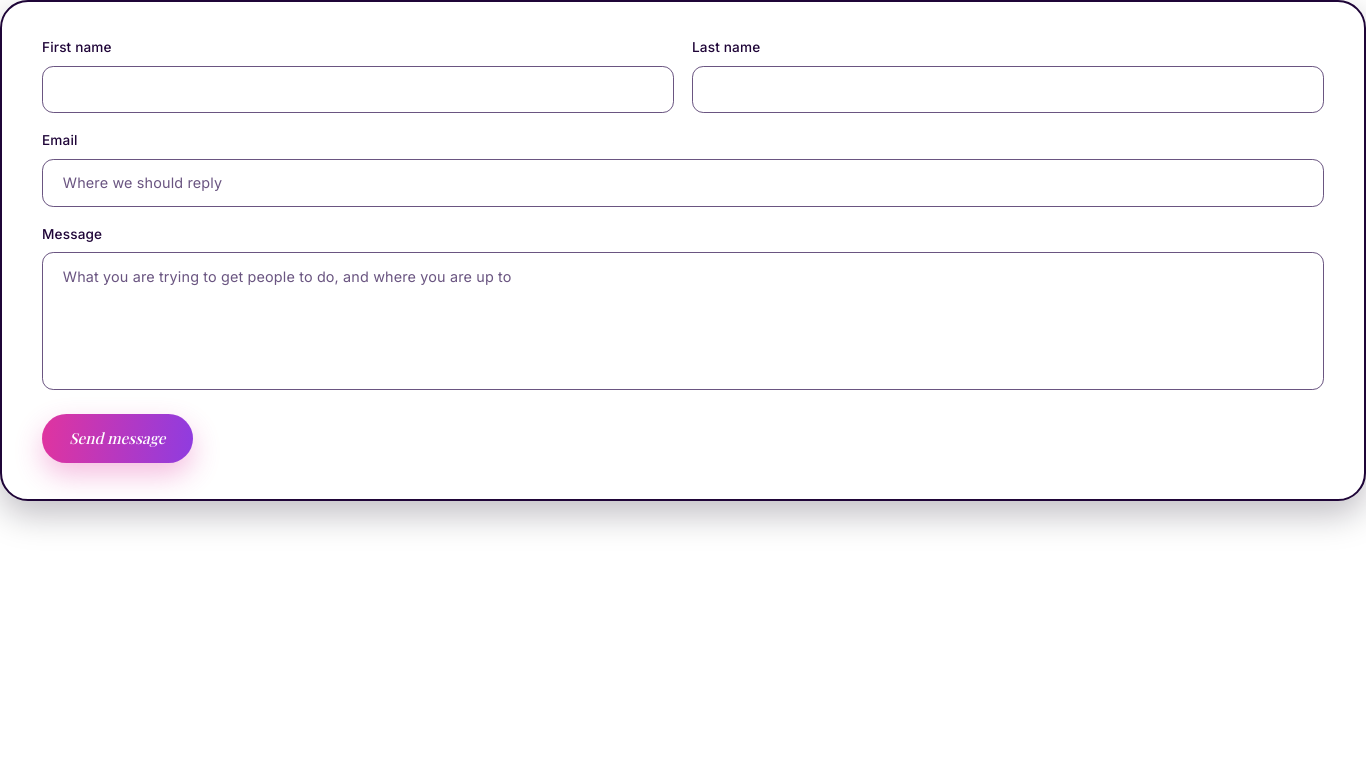
Scenario: a message that is not worth sending yet › stops complaining about a field the moment it is typed in
Step 1. Click the button "Send message" → (117, 438), box [42, 414, 192, 463]
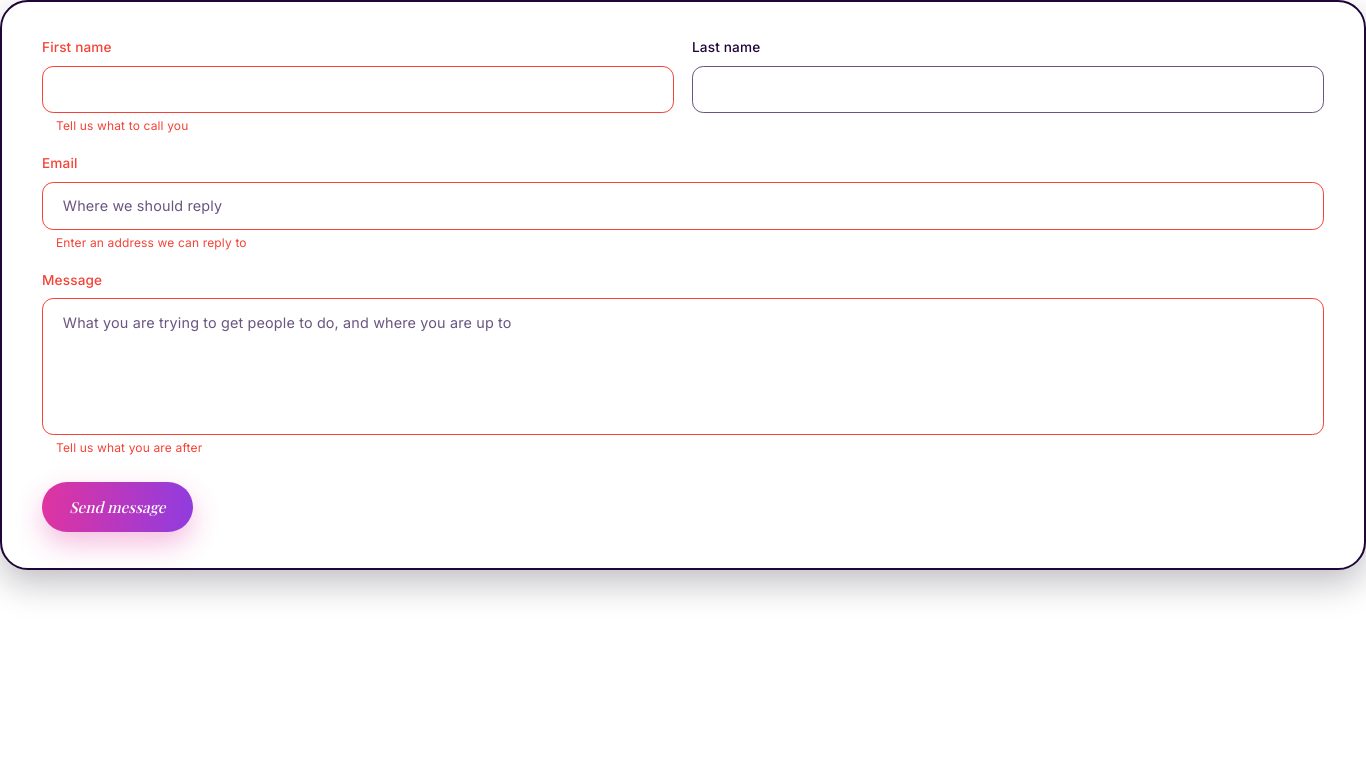
Step 2. Type "M" into the field labelled "First name" → (358, 89), box [42, 66, 674, 113]
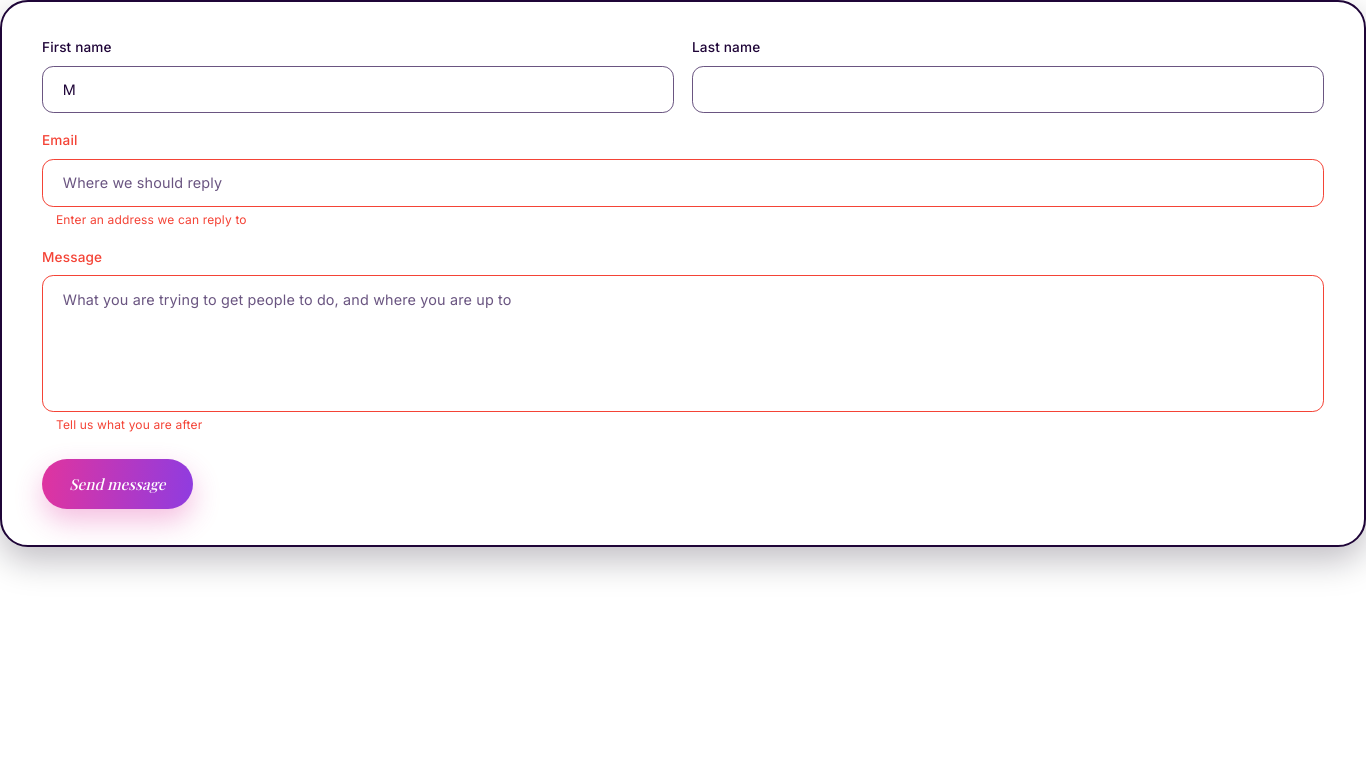
Result: the text "Enter an address we can reply to" is shown at [56, 212, 247, 227]
Result: the text "Tell us what to call you" is gone
